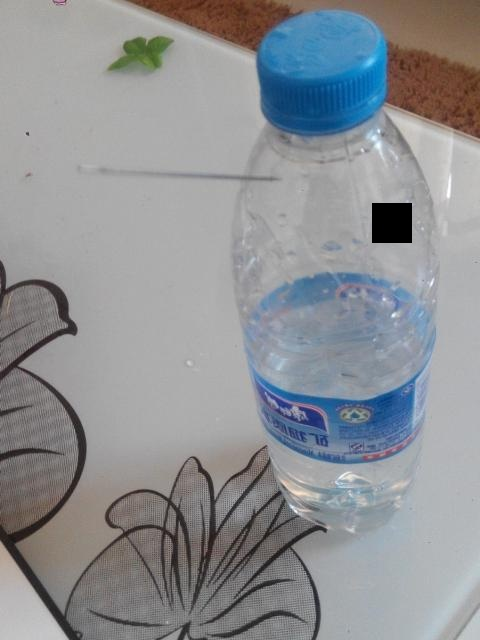bottle: (213, 95, 447, 640)
